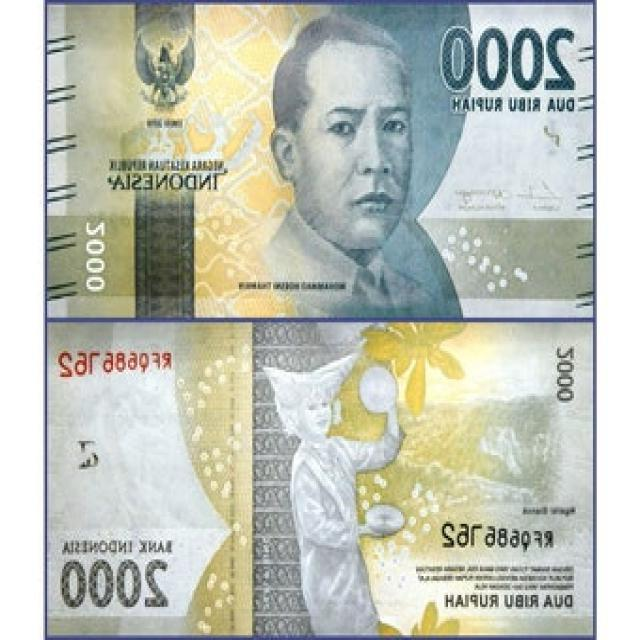dua ribu rupiah: (44, 12, 591, 322), (44, 330, 591, 633), (254, 338, 422, 628), (267, 21, 423, 312), (431, 19, 587, 116), (60, 525, 188, 625), (542, 346, 580, 414)
